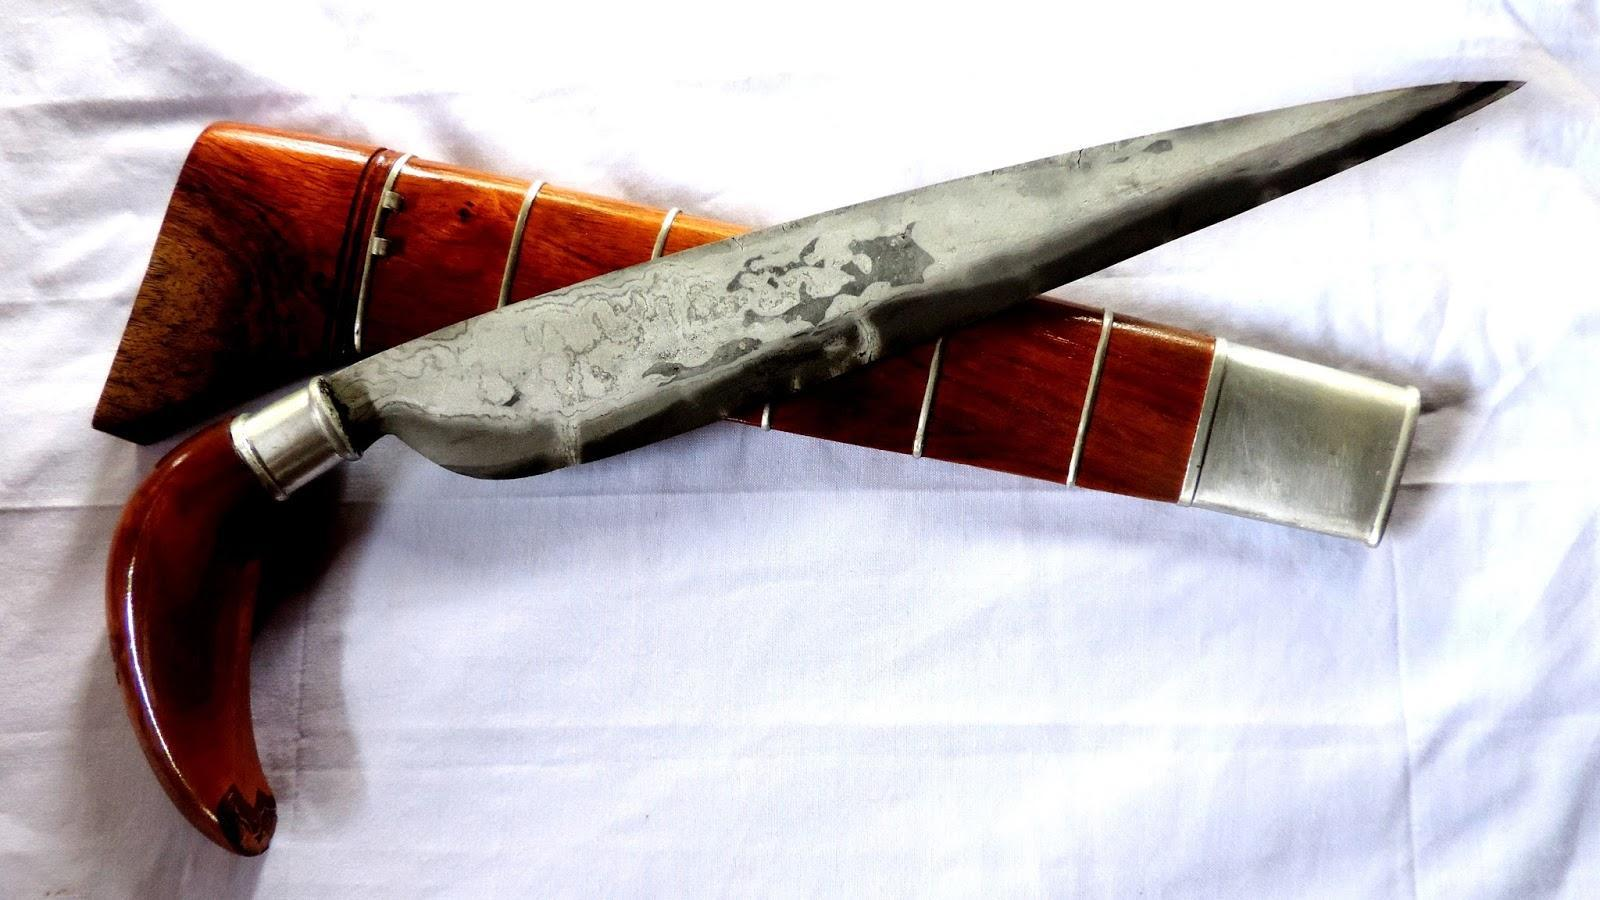facao: (107, 81, 1519, 855)
